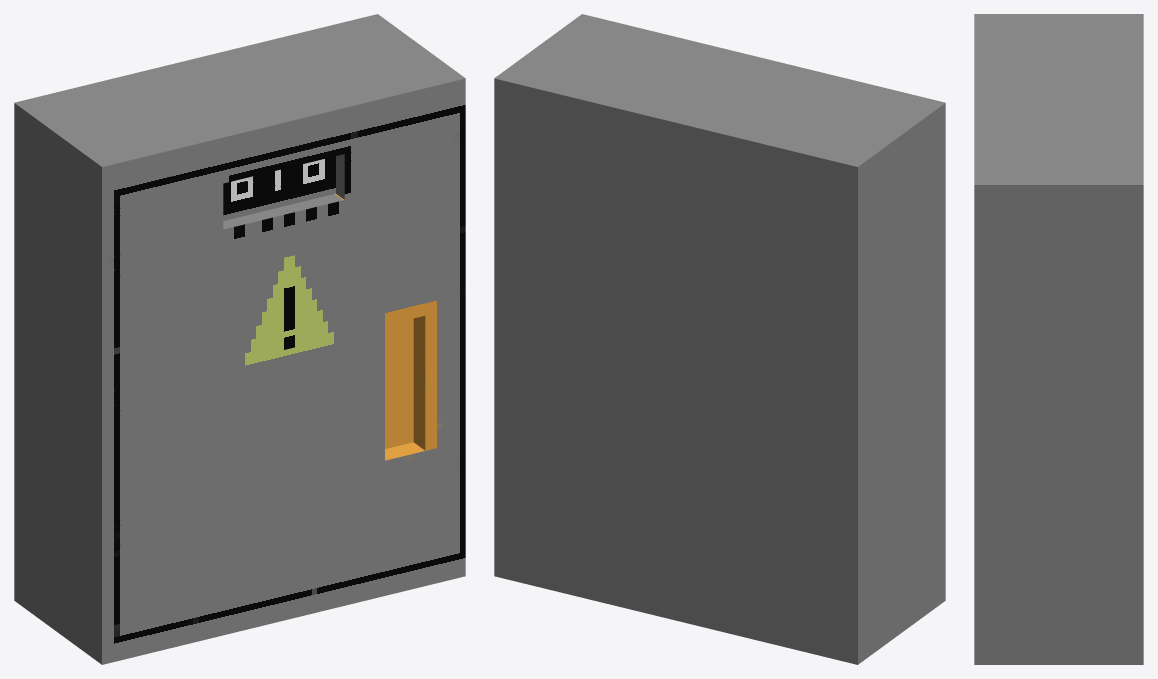
Rendered from ElectricBox.glb.
The picture shows the model from 3 angles, left to right: view 1: azimuth 30°, elevation 25°; view 2: azimuth 150°, elevation 25°; view 3: azimuth 270°, elevation 25°; orthographic projection. The views are drawn at different scales.
Visible parts, largest first — view 1: ElectricBox; view 2: ElectricBox; view 3: ElectricBox.
Boxes of the visible parts, <box> form: ElectricBox: <box>14,14,465,664</box>; ElectricBox: <box>494,14,945,664</box>; ElectricBox: <box>974,14,1143,664</box>.
Size of the model in its own units: 0.7645 by 1 by 0.3204.
1 material, 1 textured.
